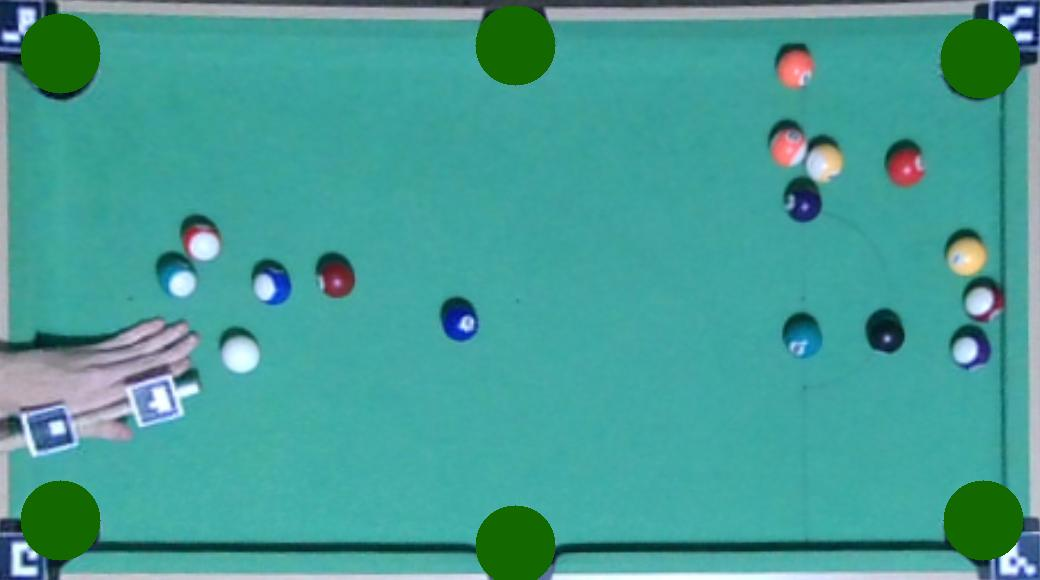Ball: (885, 144, 929, 187), (251, 262, 293, 305), (945, 237, 987, 278), (768, 126, 810, 167), (182, 221, 224, 262), (775, 48, 816, 88), (158, 258, 199, 298), (963, 283, 1005, 322), (317, 257, 357, 297), (220, 335, 261, 374), (806, 143, 845, 183), (784, 182, 823, 222), (783, 319, 822, 358), (950, 333, 990, 370), (441, 304, 480, 341), (867, 318, 905, 353)
